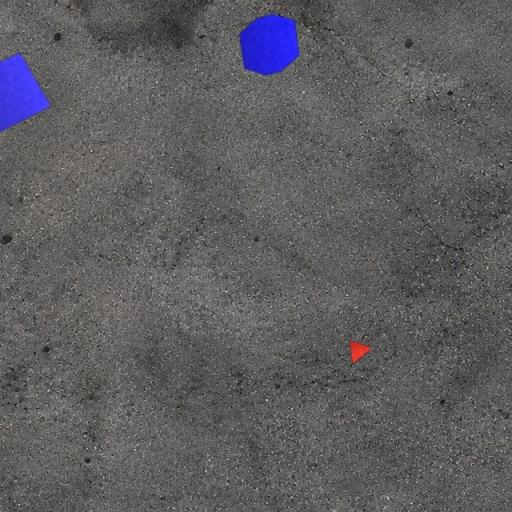BLUE_SQUARE: (0, 52, 51, 137)
